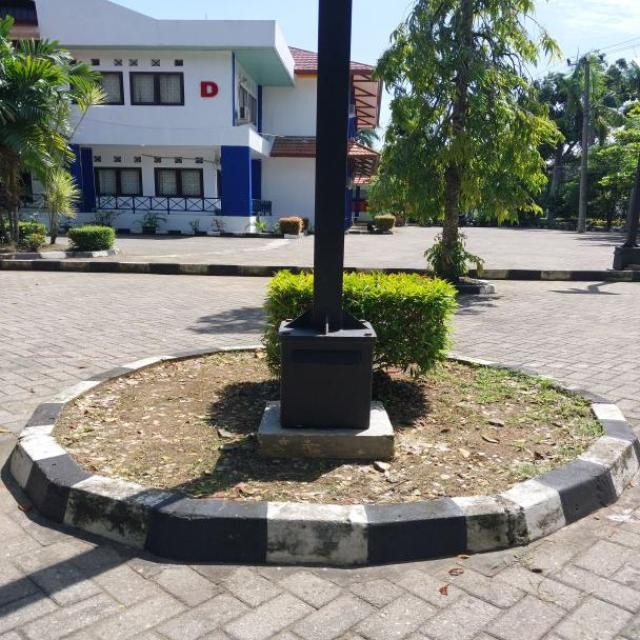electric pole ahead at: (276, 0, 385, 438)
